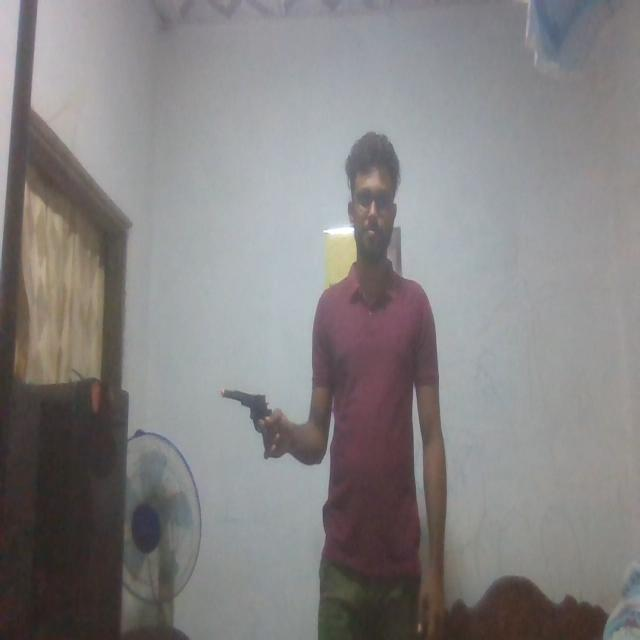Gun_Holder: (220, 382, 280, 460)
Person: (257, 112, 463, 640)
